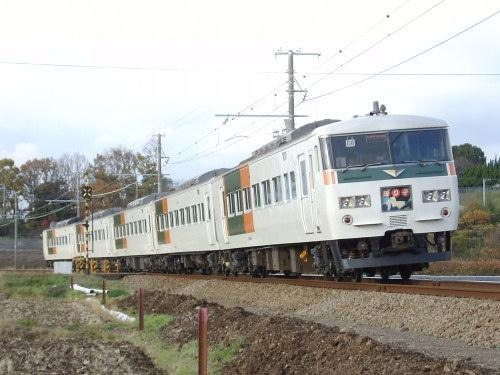train: (43, 102, 460, 282)
